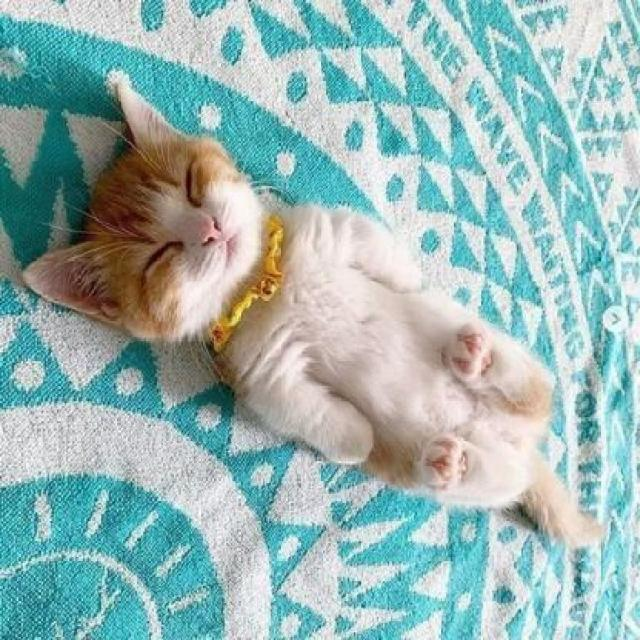Not_a_Chicken: (16, 58, 615, 563)
